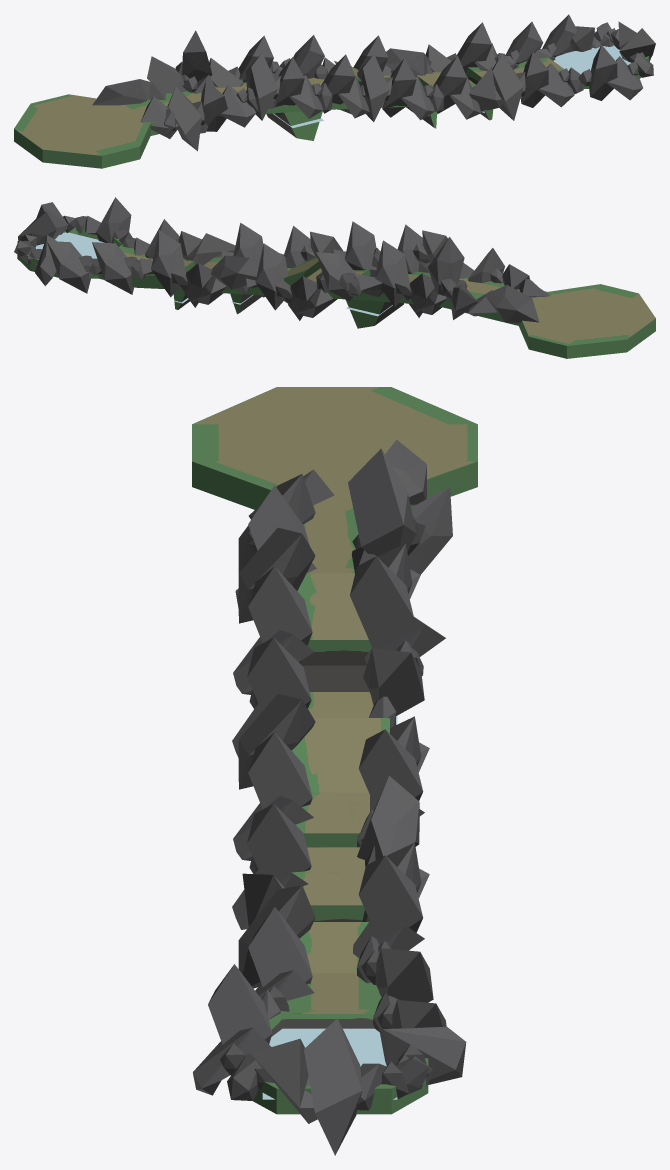
Rendered from mapver4.fbx.
3 views of the same model, one above another, from view 1: azimuth 30°, elevation 25°; view 2: azimuth 150°, elevation 25°; view 3: azimuth 270°, elevation 25° (orthographic). The views are drawn at different scales.
Parts seen in each view (by area): view 1: 立方体.087, 立方体, 平面.004; view 2: 立方体.087, 立方体, 平面.004; view 3: 立方体.087, 立方体, 平面.004.
Part boxes in pixels (x1,y1,x2,y2): 立方体.087: (92, 14, 655, 151); 立方体: (14, 56, 649, 168); 平面.004: (553, 45, 630, 74); 立方体.087: (14, 197, 550, 322); 立方体: (17, 226, 655, 358); 平面.004: (35, 232, 103, 258); 立方体.087: (193, 439, 466, 1155); 立方体: (192, 387, 477, 1114); 平面.004: (262, 1028, 397, 1099).
Bounding box in the file's own units: 9962 × 2140 × 1989.
5 materials, 2 textured.
